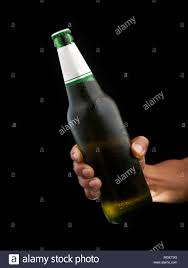beer: (50, 27, 152, 226)
